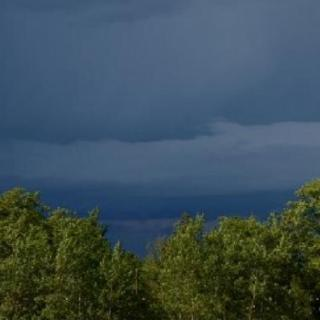Nimbostratus: (0, 0, 320, 141)
